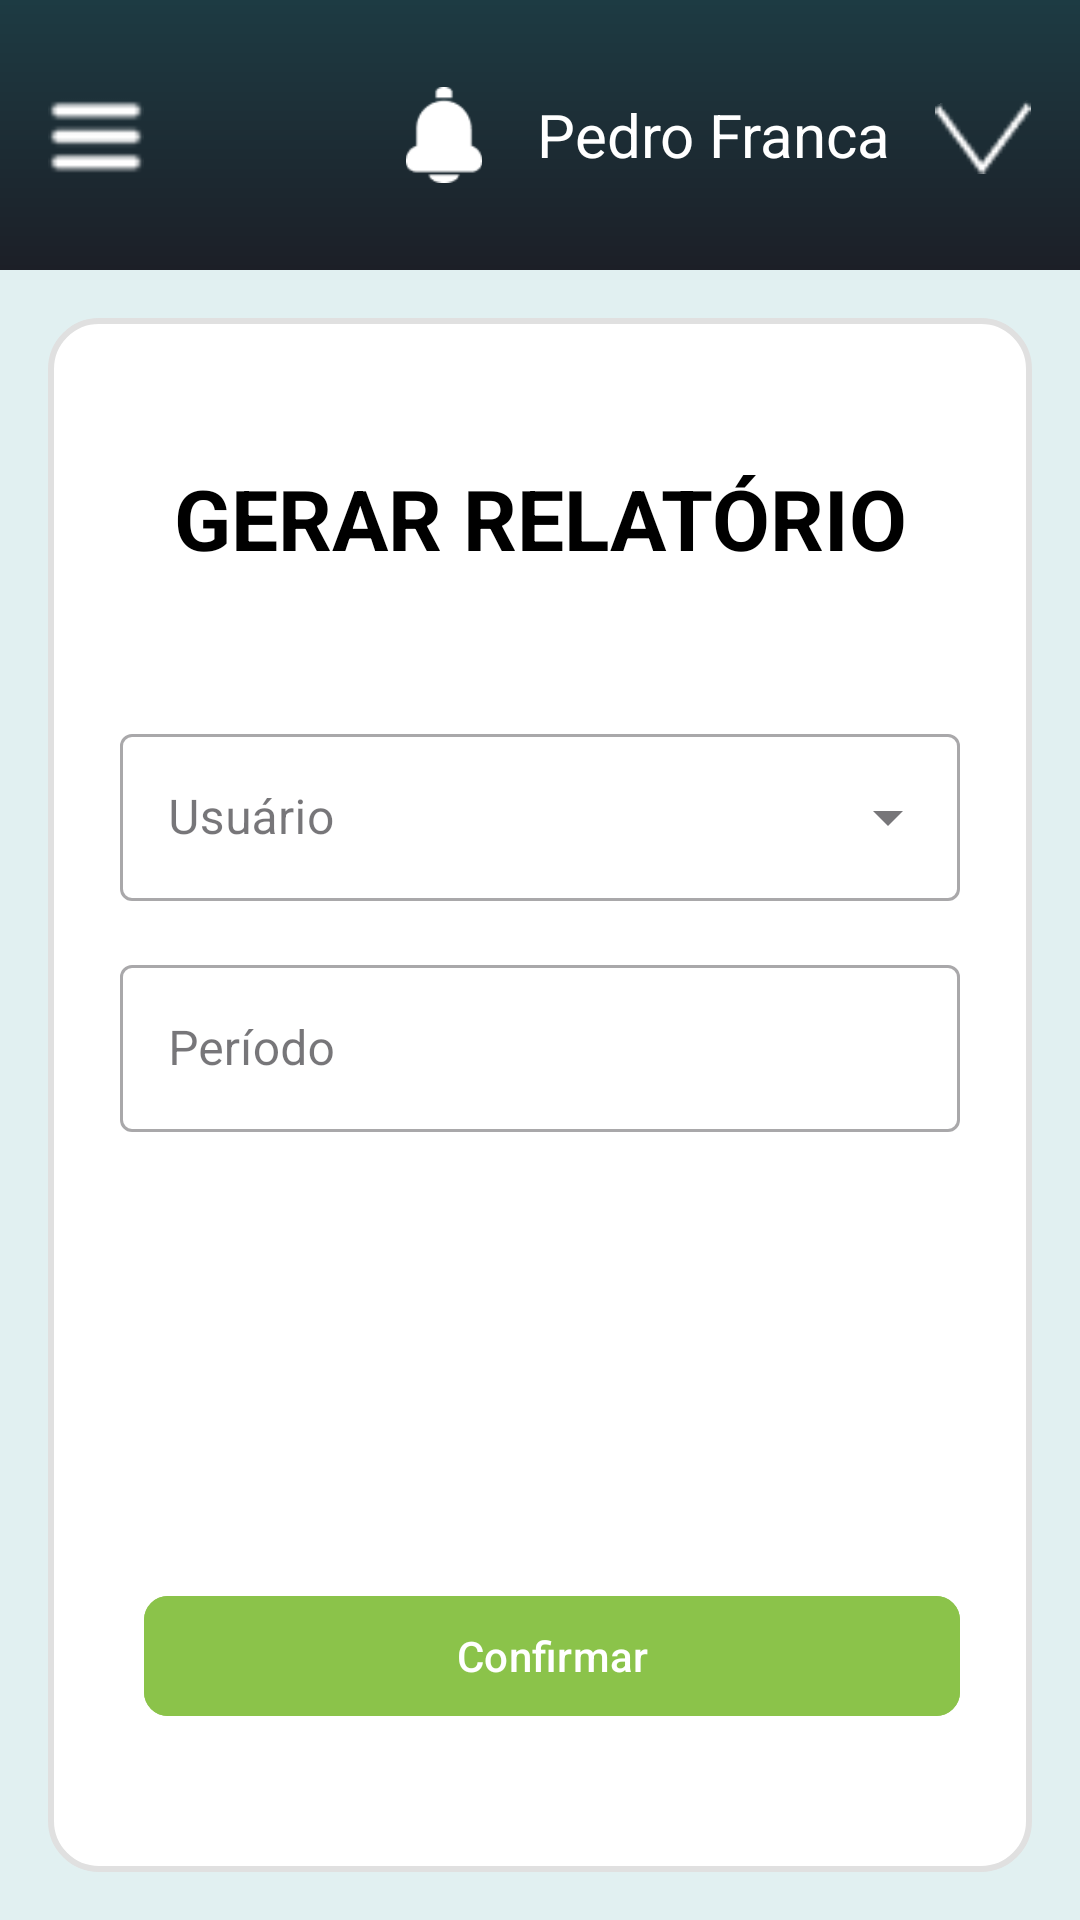

Named icons in this screenshot (1080 × 1920) and their centers, point (x, y):
menu: point (96, 136)
notification bell: point (444, 135)
